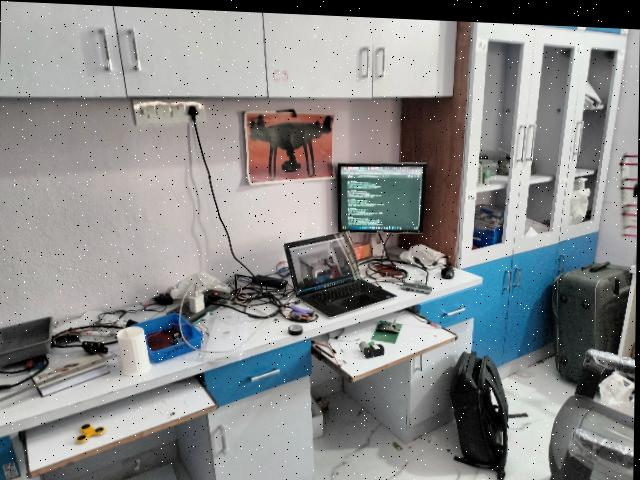drone: (244, 112, 335, 177)
